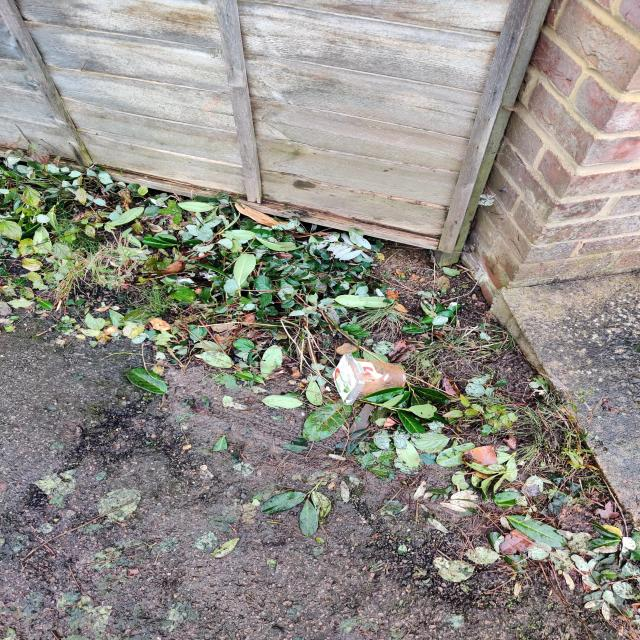litter: (305, 342, 432, 425)
